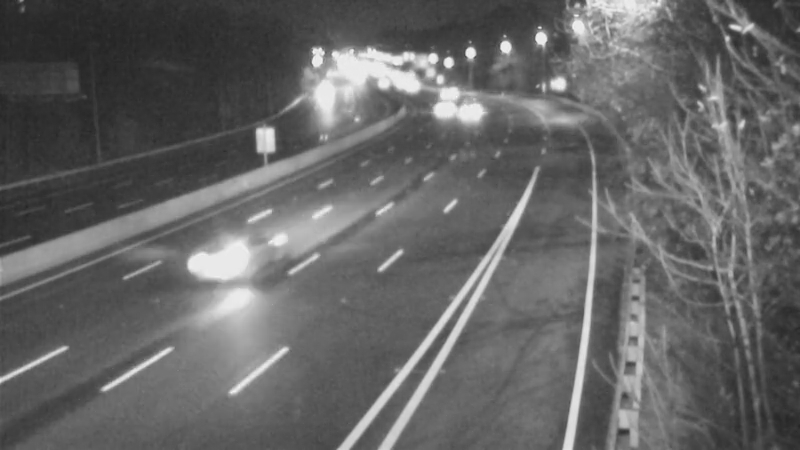vehicle: (173, 223, 253, 303), (431, 65, 481, 115), (410, 88, 460, 138), (449, 84, 499, 134), (296, 74, 346, 124)
